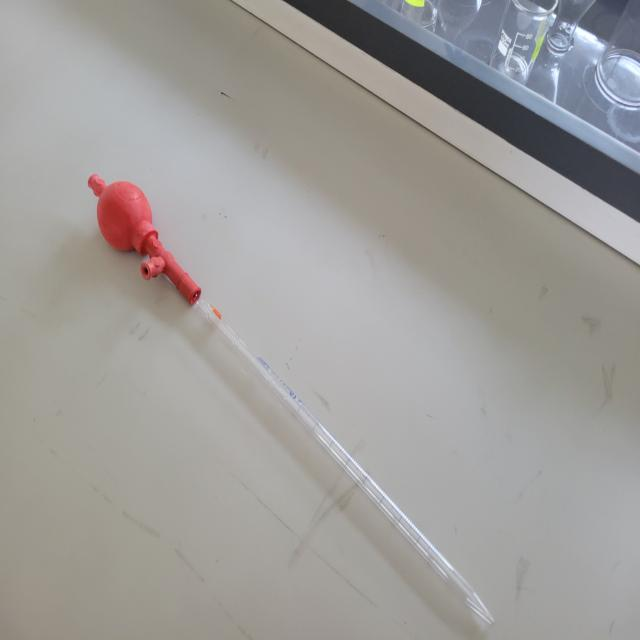Volumetric_Pipet: (60, 131, 509, 640)
